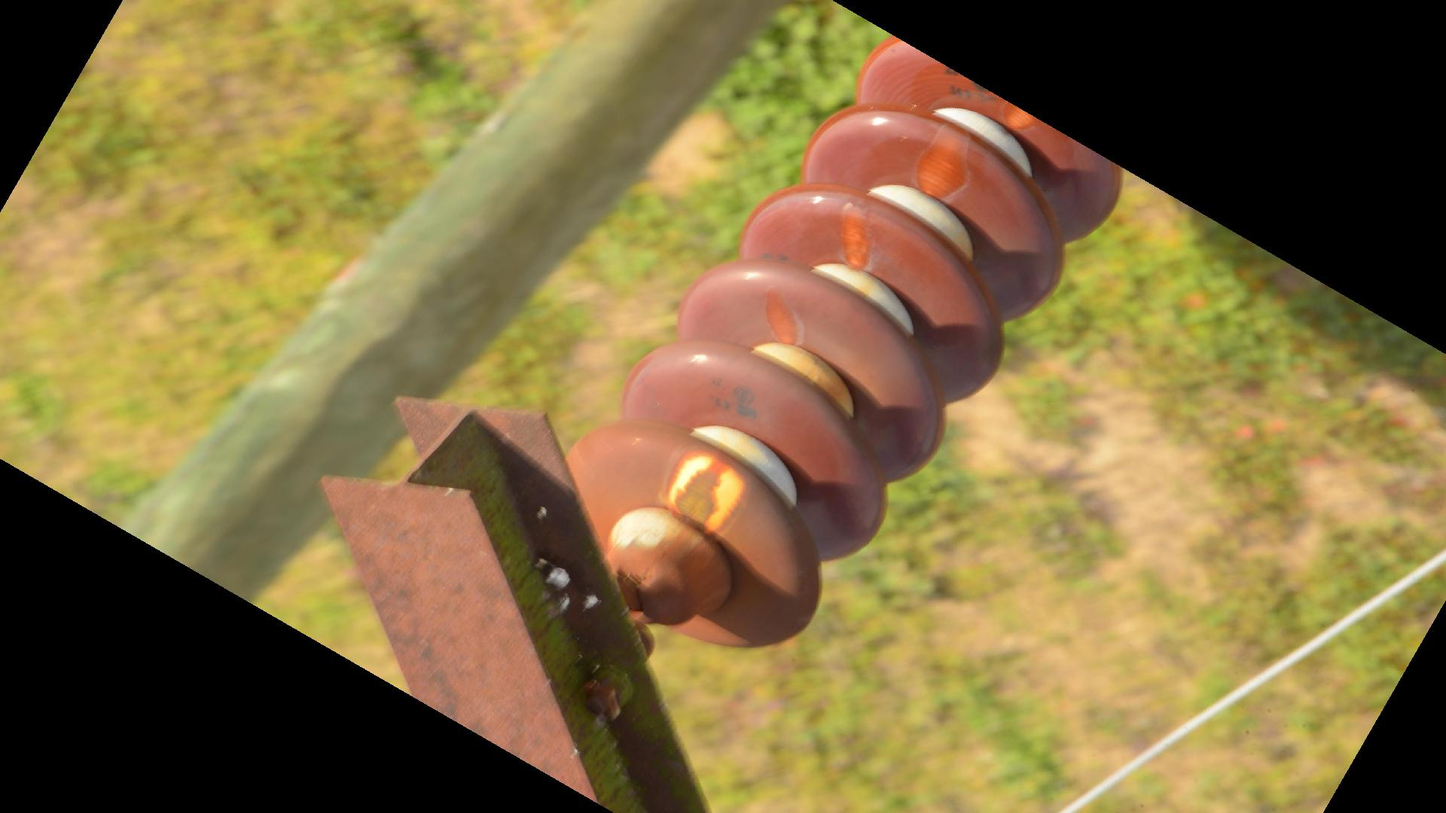insulator: (563, 34, 1132, 656)
insulator_flashover: (660, 445, 747, 542), (913, 120, 975, 200), (761, 283, 807, 349), (838, 199, 877, 272)
